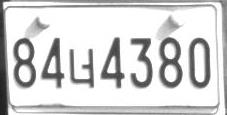0: (188, 36, 210, 89)
3: (129, 37, 153, 89)
4: (99, 36, 125, 89), (41, 37, 64, 88)
8: (158, 36, 183, 89), (12, 36, 37, 88)
너: (68, 48, 94, 88)
